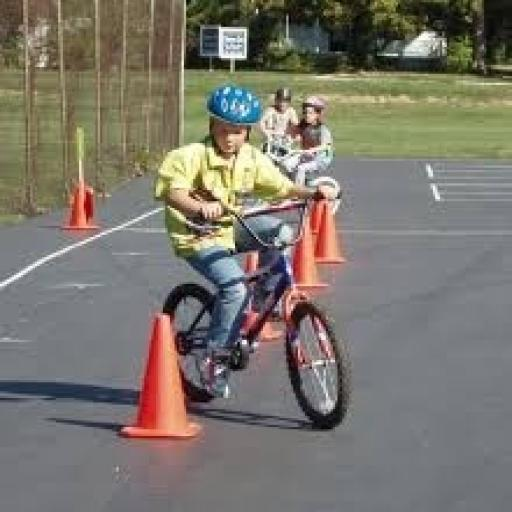cycling: (151, 83, 342, 402)
